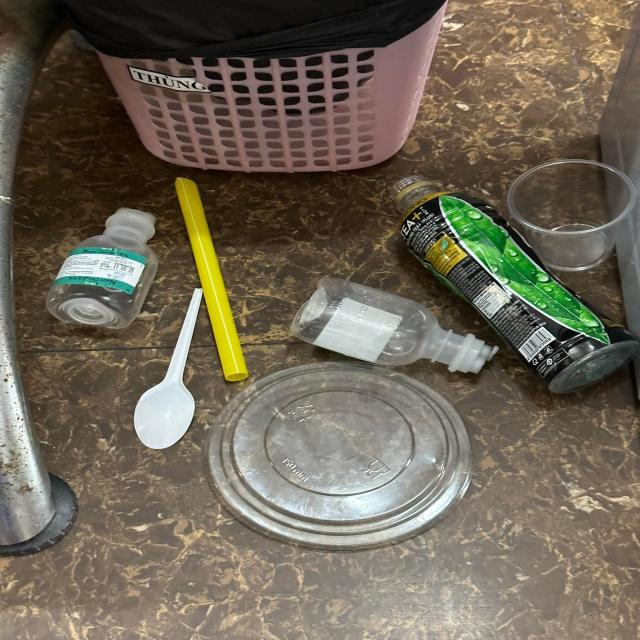bottle: (390, 174, 640, 394), (290, 277, 500, 374), (47, 207, 161, 331)
drinking straw: (174, 177, 249, 381)
lid: (204, 362, 473, 551)
plastic glass: (508, 158, 638, 273)
plastic utensil: (132, 287, 205, 450)
